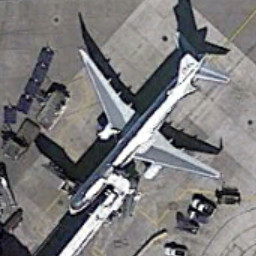Airplane: (57, 27, 235, 218)
